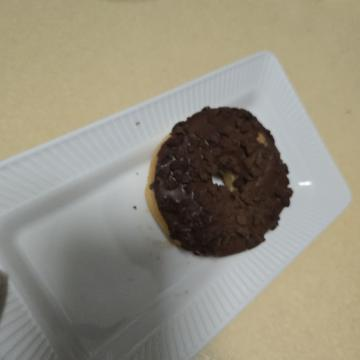doughnut: (95, 62, 273, 228)
